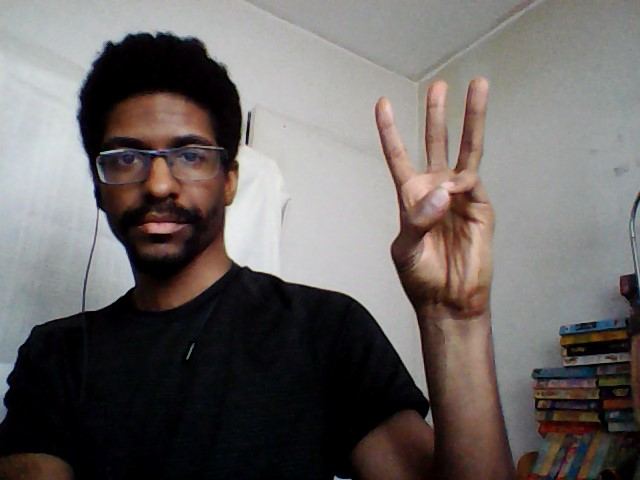w: (370, 71, 499, 317)
